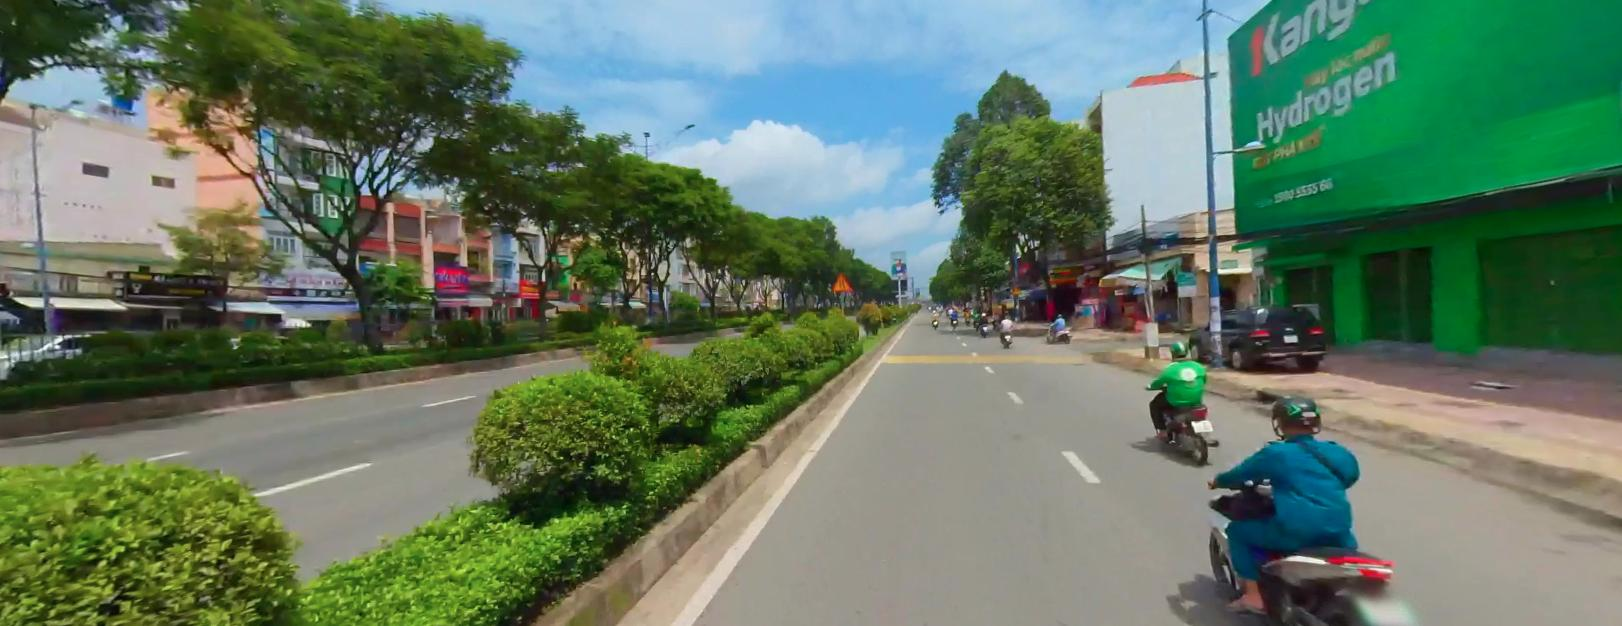Nguy hiem: (831, 271, 851, 289), (1011, 284, 1020, 292)
